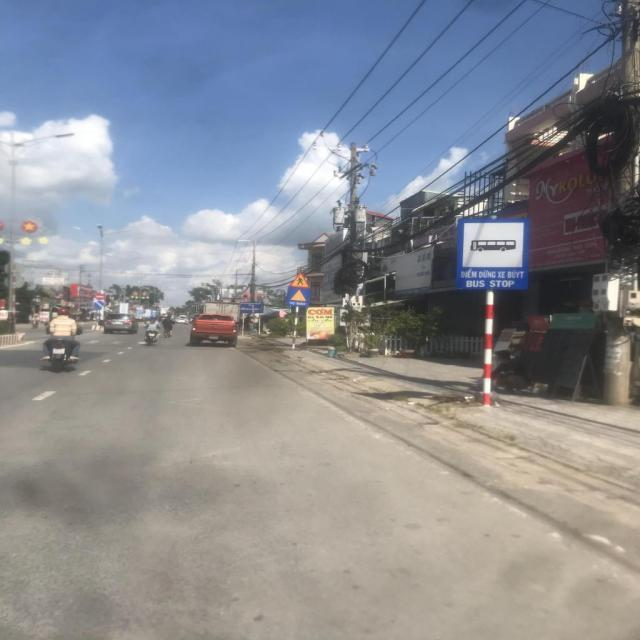442-cho: (286, 286, 312, 307)
